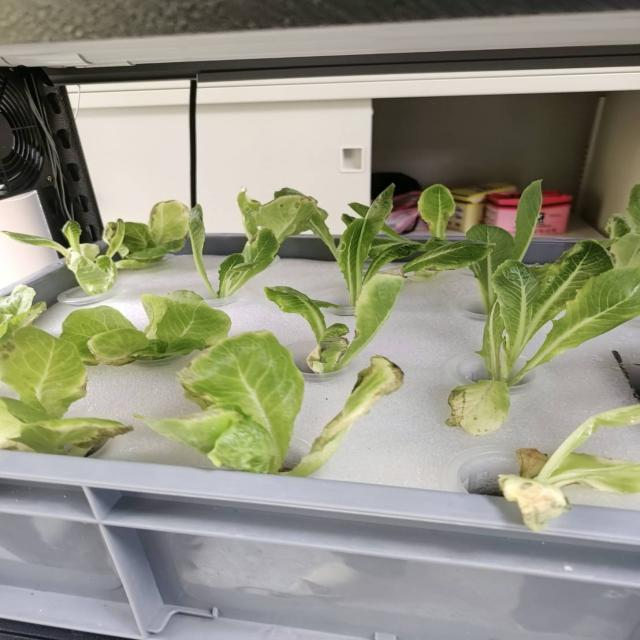Lettuce-Not-Ready-to-Harvest: (140, 331, 403, 476), (447, 241, 640, 435), (500, 405, 640, 530), (0, 326, 132, 456), (265, 272, 403, 373), (308, 185, 422, 306), (60, 290, 230, 365), (467, 180, 542, 314), (5, 220, 125, 295), (188, 205, 280, 299), (115, 200, 190, 269), (237, 189, 317, 243), (402, 240, 493, 273), (607, 184, 640, 268), (0, 285, 47, 338), (418, 184, 455, 240), (103, 222, 117, 245)
